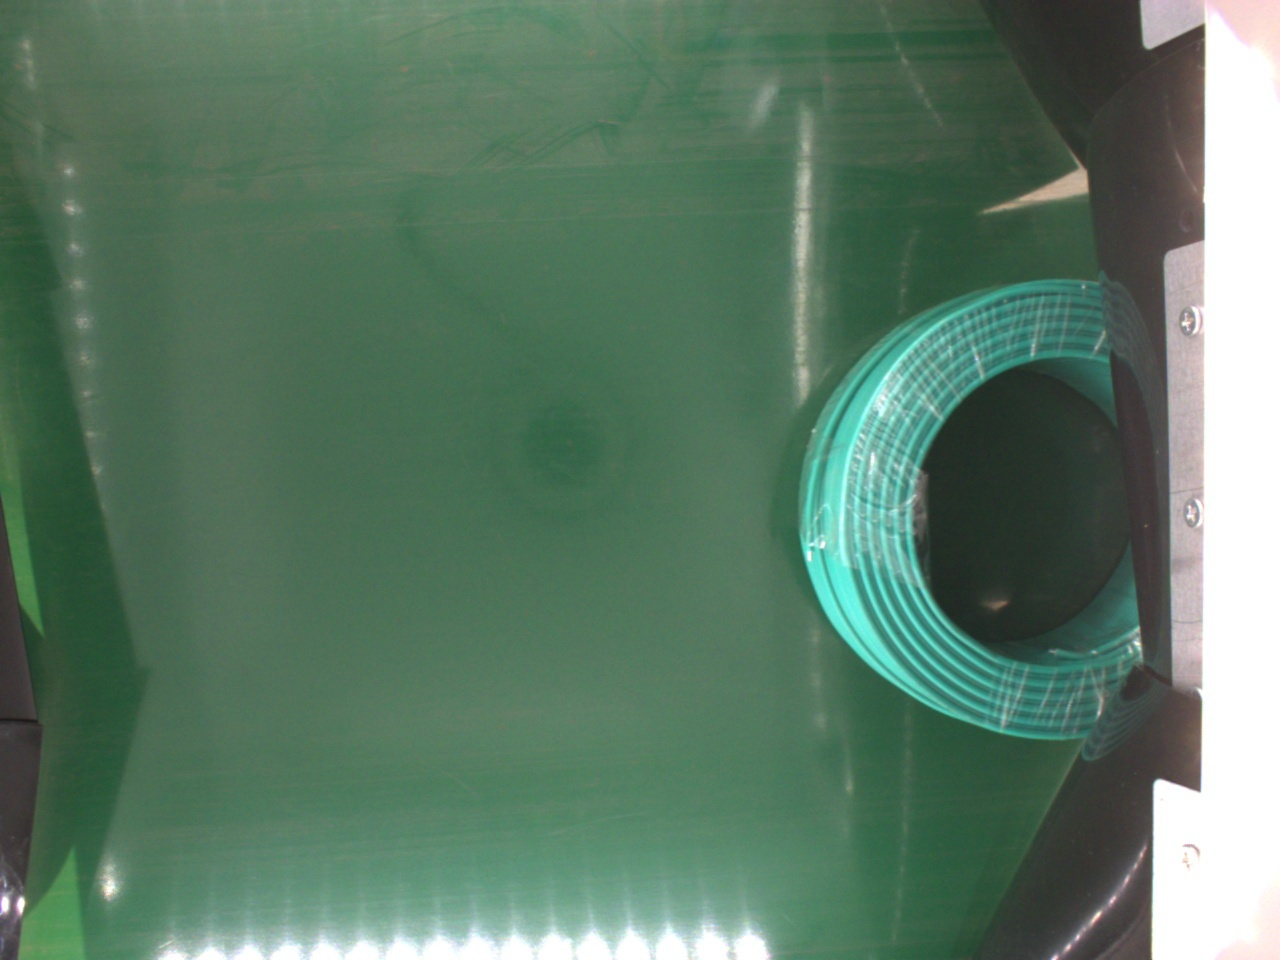green: (798, 273, 1155, 749)
